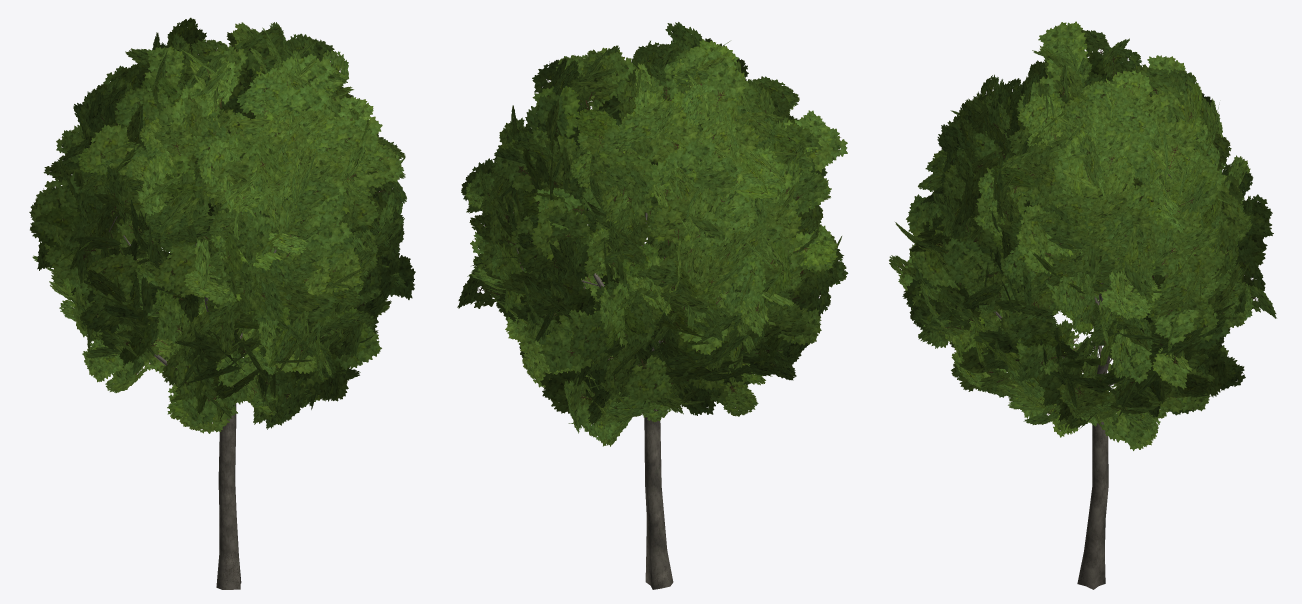
Rendered from arbre_feuillu_jeune_lod0.glb.
The picture shows the model from 3 angles, left to right: view 1: azimuth 30°, elevation 25°; view 2: azimuth 150°, elevation 25°; view 3: azimuth 270°, elevation 25°; orthographic projection. The views are drawn at different scales.
Visible parts, largest first — view 1: arbre_feuillu_jeune_lod0; view 2: arbre_feuillu_jeune_lod0; view 3: arbre_feuillu_jeune_lod0.
Part boxes in pixels (x1,y1,x2,y2): arbre_feuillu_jeune_lod0: (29,17,415,589); arbre_feuillu_jeune_lod0: (457,22,848,589); arbre_feuillu_jeune_lod0: (889,21,1276,589).
Bounding box in the file's own units: 4.32 × 6.27 × 4.24.
2 materials, 2 textured.
